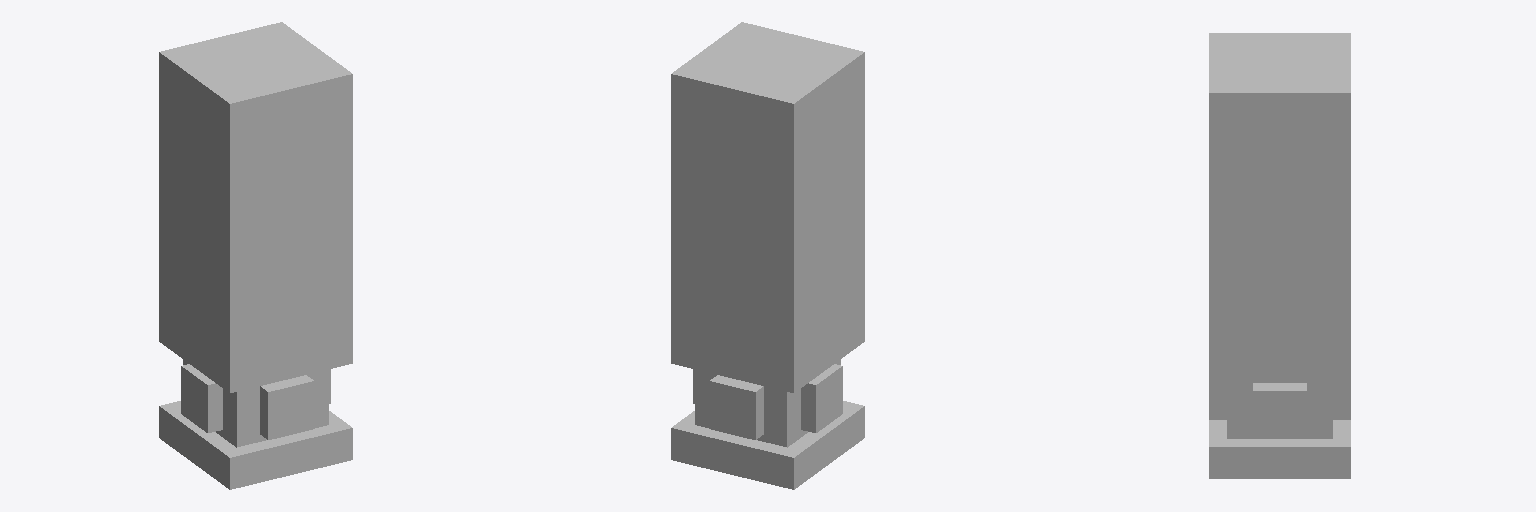
File: core_drill.obj
The picture shows the model from 3 angles: view 1: azimuth 30°, elevation 25°; view 2: azimuth 150°, elevation 25°; view 3: azimuth 270°, elevation 25°; orthographic projection.
Parts seen in each view (by area): view 1: drill_base; view 2: drill_base; view 3: drill_base.
Boxes of the visible parts, x1,y1,x2,y2 form: drill_base: [159, 22, 352, 489]; drill_base: [671, 22, 864, 489]; drill_base: [1209, 33, 1350, 478].
Bounding box in the file's own units: 1 × 3 × 1.